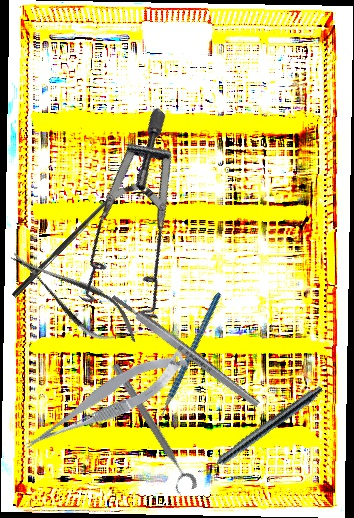Chopper: (117, 292, 262, 438)
Fixation Ring: (101, 360, 200, 498)
Handpiece: (196, 381, 325, 481)
Micro Scissor: (14, 345, 196, 456), (0, 234, 149, 361)
Scalpel Handle: (109, 291, 262, 410)
Speculum: (22, 105, 264, 348)
Surgical Spoon: (11, 188, 122, 299)
